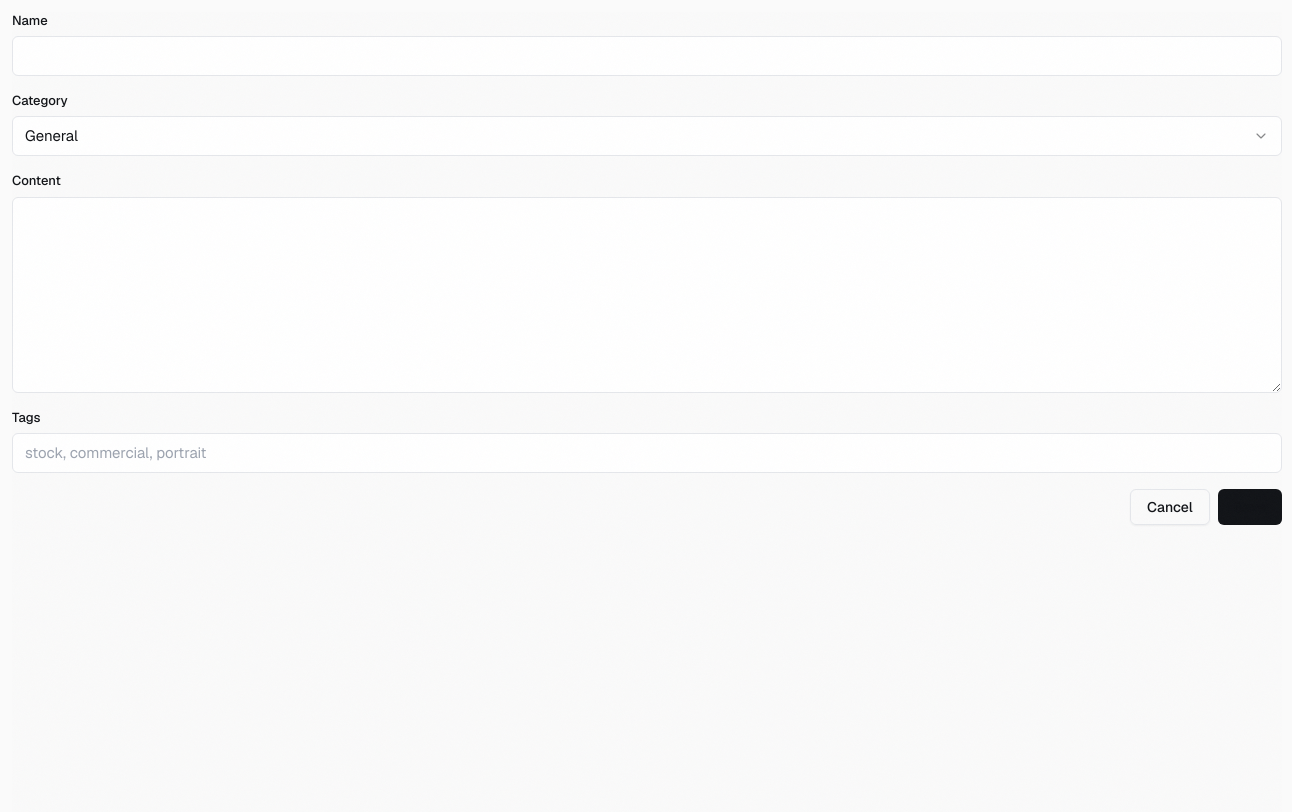
Test case: TemplateForm › renders translated schema validation messages rather than translation keys
Click the button "Save".
click(1250, 507)  # box [1218,489,1282,525]
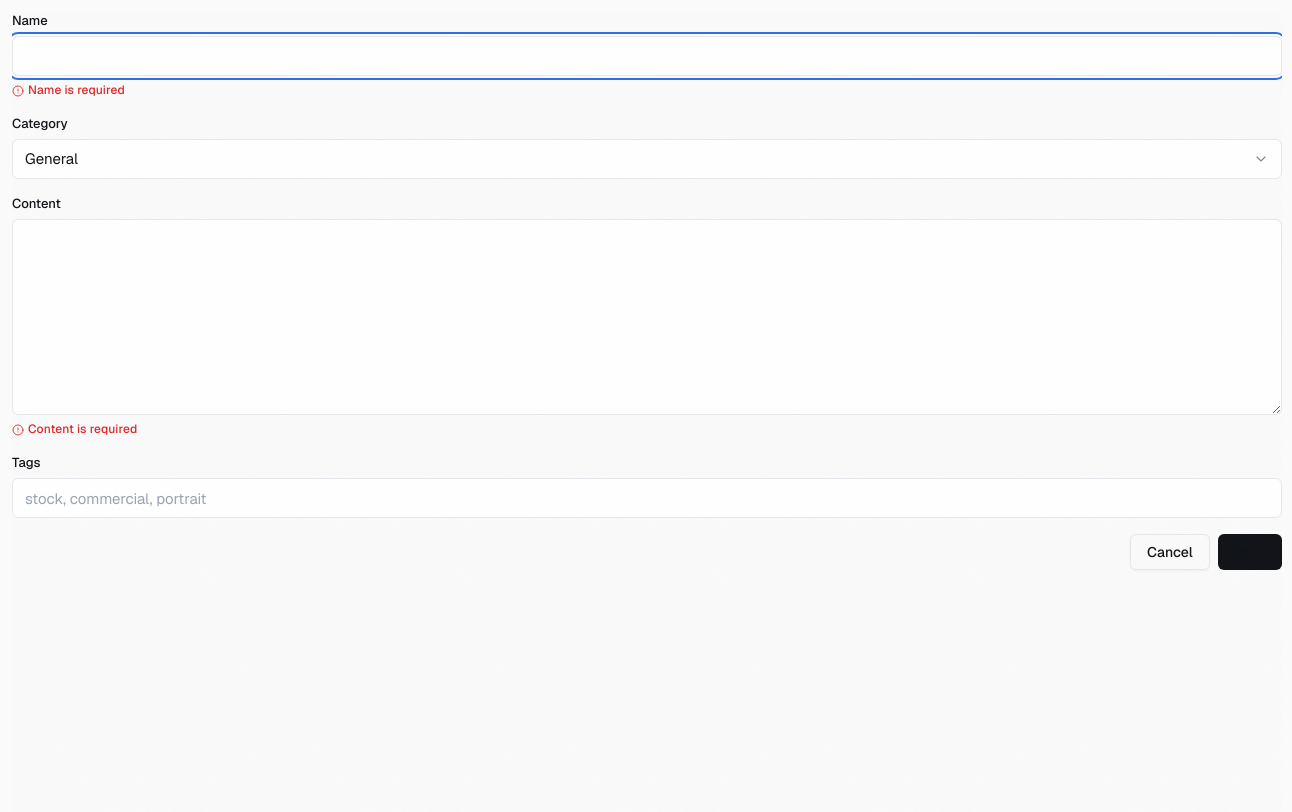
Now the text "Name is required" is shown, box [12,82,125,98]
Now the text "Content is required" is shown, box [12,421,137,437]
